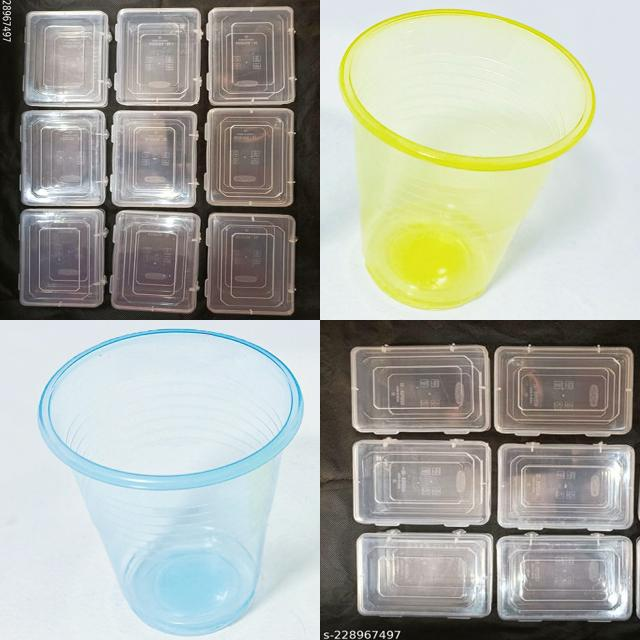Single-Use-Plastic: (39, 330, 302, 635), (339, 10, 595, 309), (494, 346, 634, 436), (351, 346, 490, 434), (499, 442, 635, 531), (354, 439, 491, 527), (356, 530, 492, 618), (498, 534, 632, 621), (205, 212, 295, 316), (110, 210, 200, 313), (206, 6, 295, 105), (205, 109, 294, 206), (20, 110, 109, 206), (19, 209, 106, 307), (115, 8, 201, 106), (110, 111, 196, 208), (25, 11, 110, 107)
